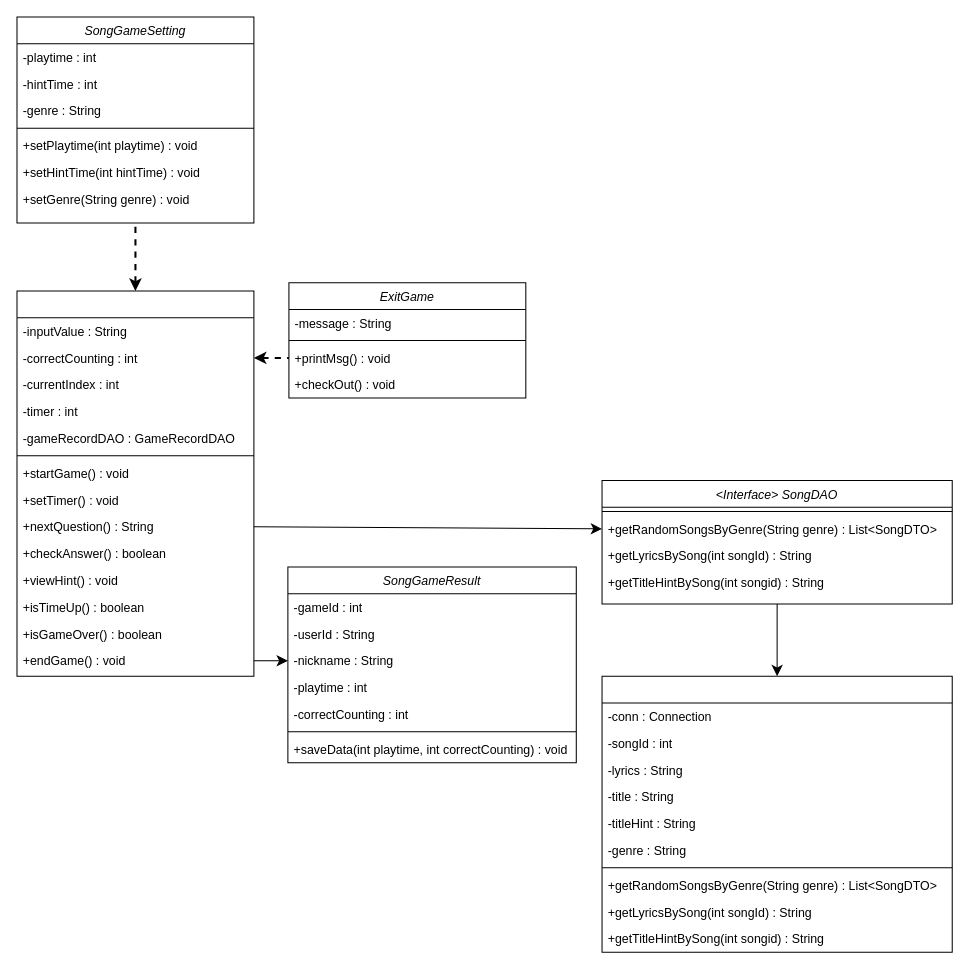
Image size: 969x969. Some labels were removed from this diagram. The box of each missing label's shape, as (x1, y1, x2, y2) in pixels:
SongDAOImpl: (601, 675, 952, 952)
SongGame: (16, 290, 254, 676)
